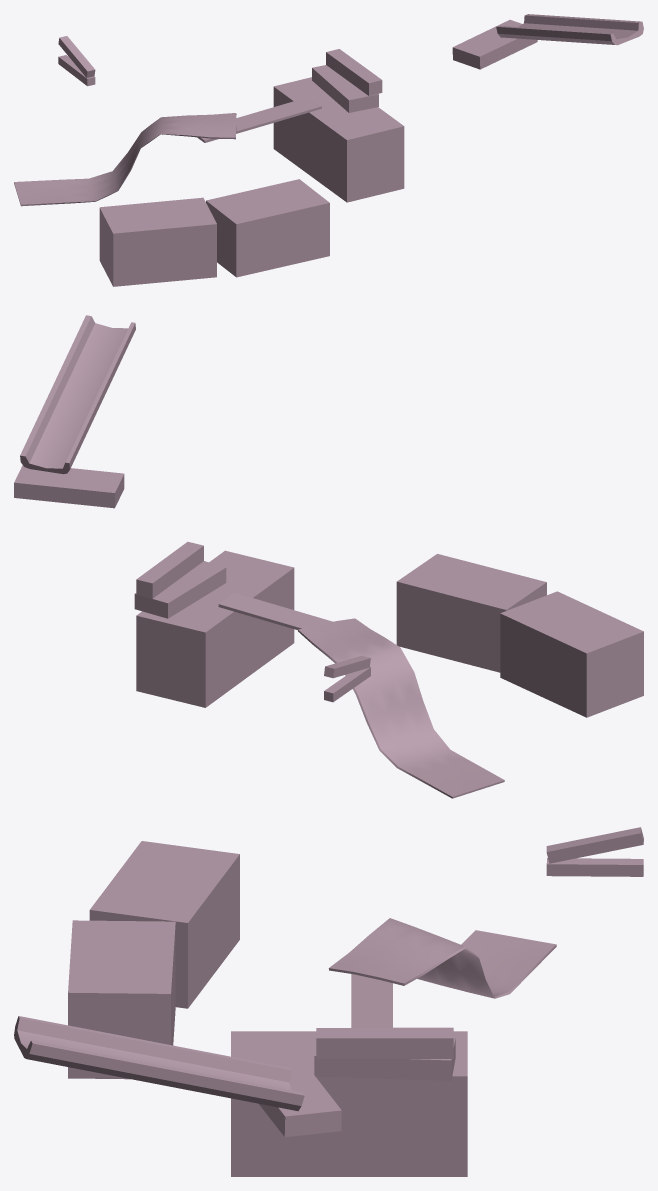
File: br_placeholders.fbx
3 views of the same model, one above another, from view 1: azimuth 30°, elevation 25°; view 2: azimuth 150°, elevation 25°; view 3: azimuth 270°, elevation 25° (orthographic). The views are drawn at different scales.
Visible parts, largest first — view 1: polySurface1267; view 2: polySurface1267; view 3: polySurface1267.
Part boxes in pixels (<box>): polySurface1267: <box>14,14,643,286</box>; polySurface1267: <box>14,315,643,798</box>; polySurface1267: <box>14,827,643,1176</box>.
Bounding box in the file's own units: 91.87 × 29.95 × 62.77.
